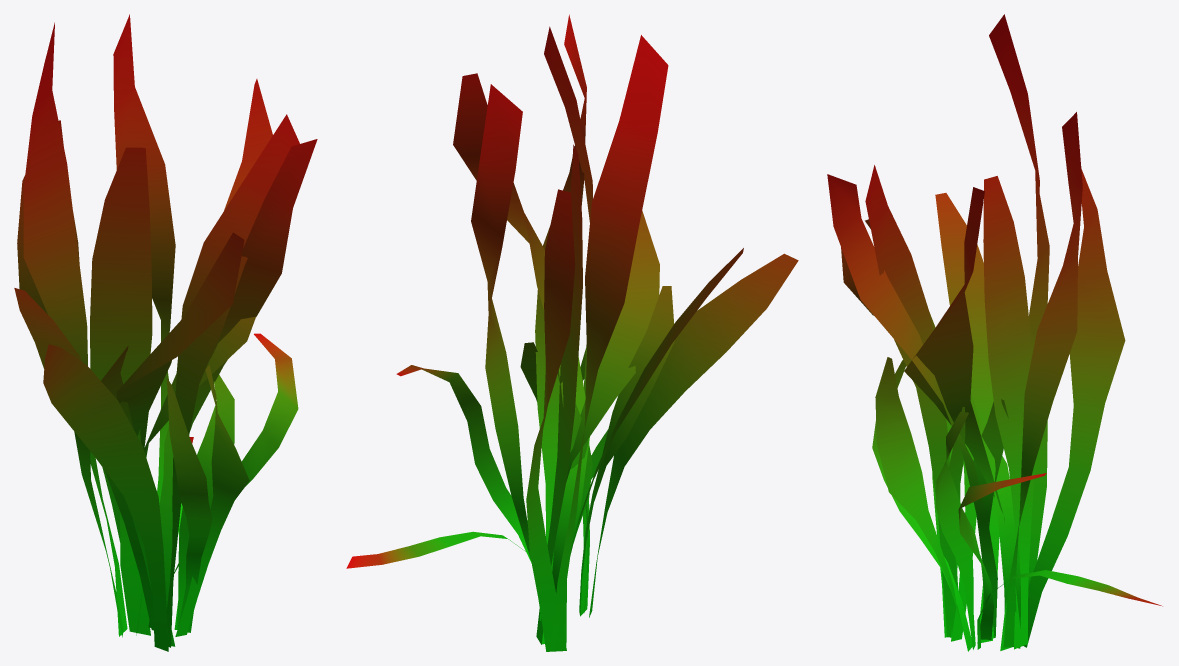
File: Snake Plant_LOD2_Var4_sgtmY.fbx
3 renders of one model, left to right at view 1: azimuth 30°, elevation 25°; view 2: azimuth 150°, elevation 25°; view 3: azimuth 270°, elevation 25°, orthographic. The views are drawn at different scales.
Parts seen in each view (by area): view 1: _343b_Var4_LOD2; view 2: _343b_Var4_LOD2; view 3: _343b_Var4_LOD2.
Part boxes in pixels (box(x1,y1,x2,y2)): _343b_Var4_LOD2: box(14, 14, 317, 651); _343b_Var4_LOD2: box(346, 14, 798, 651); _343b_Var4_LOD2: box(827, 14, 1162, 651).
Size of the model in its own units: 59.72 by 114 by 58.44.
